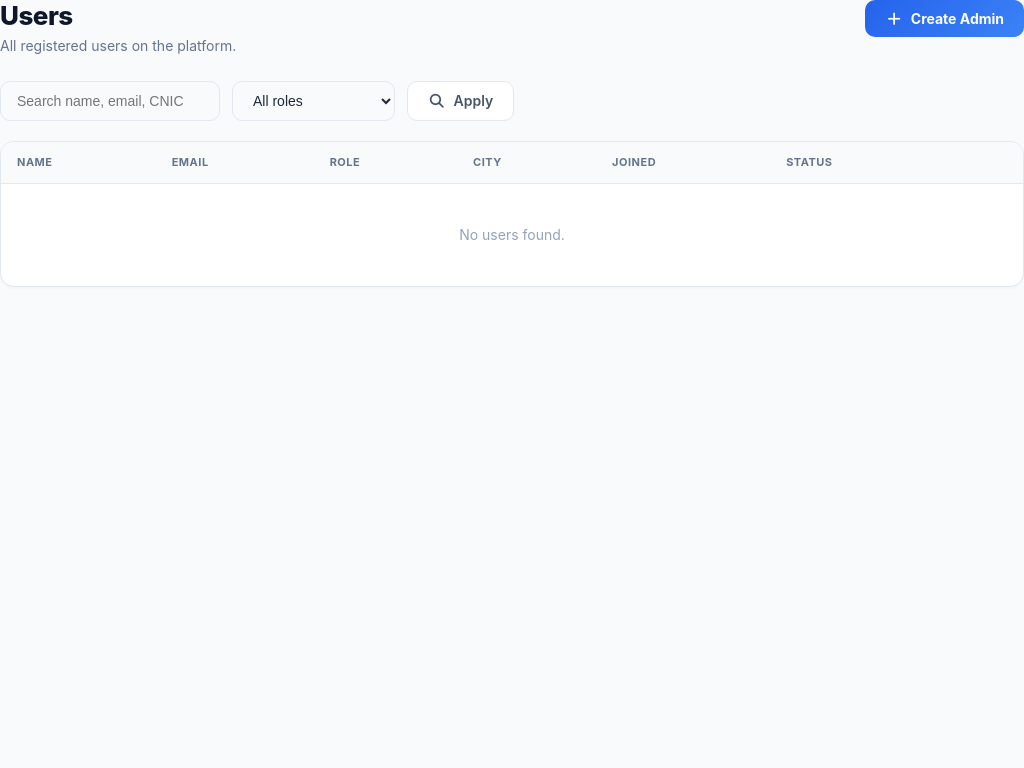
Test: Sprint 2 Security Frontend Remediation › V1-SEC-006: AdminUsers enforces 12-128 character administrator password guidance
Click the button "Create Admin" at (945,18), box [865,0,1023,37]
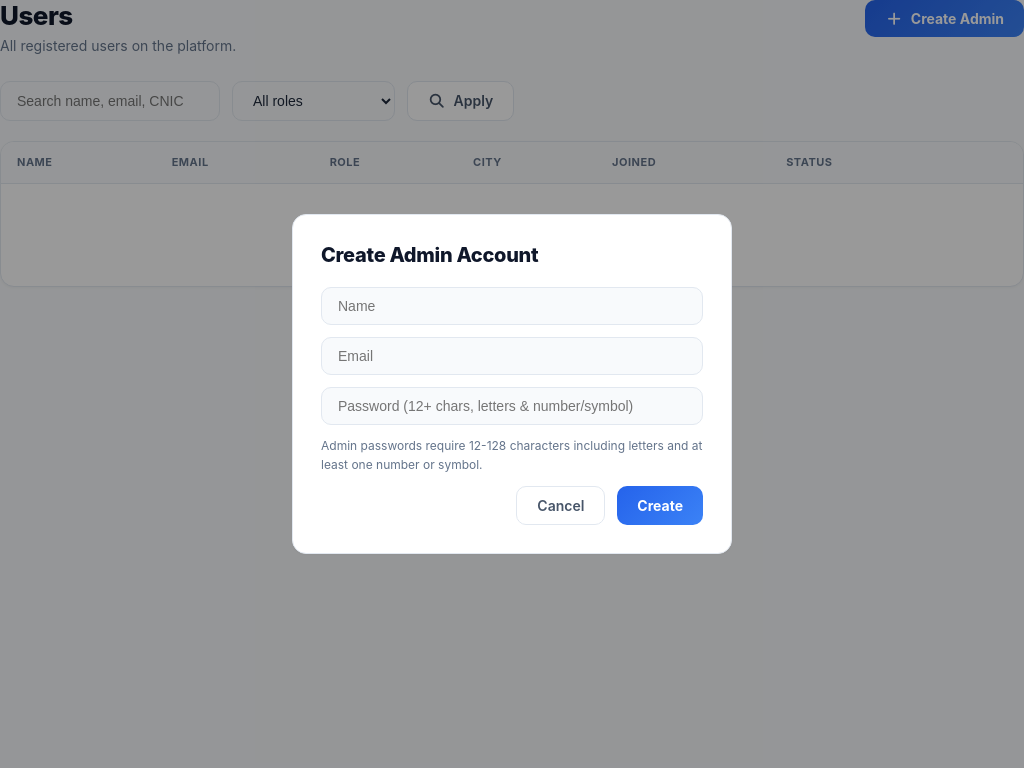
Expected: the text "12-128 characters" is shown, [321,438,702,472]
